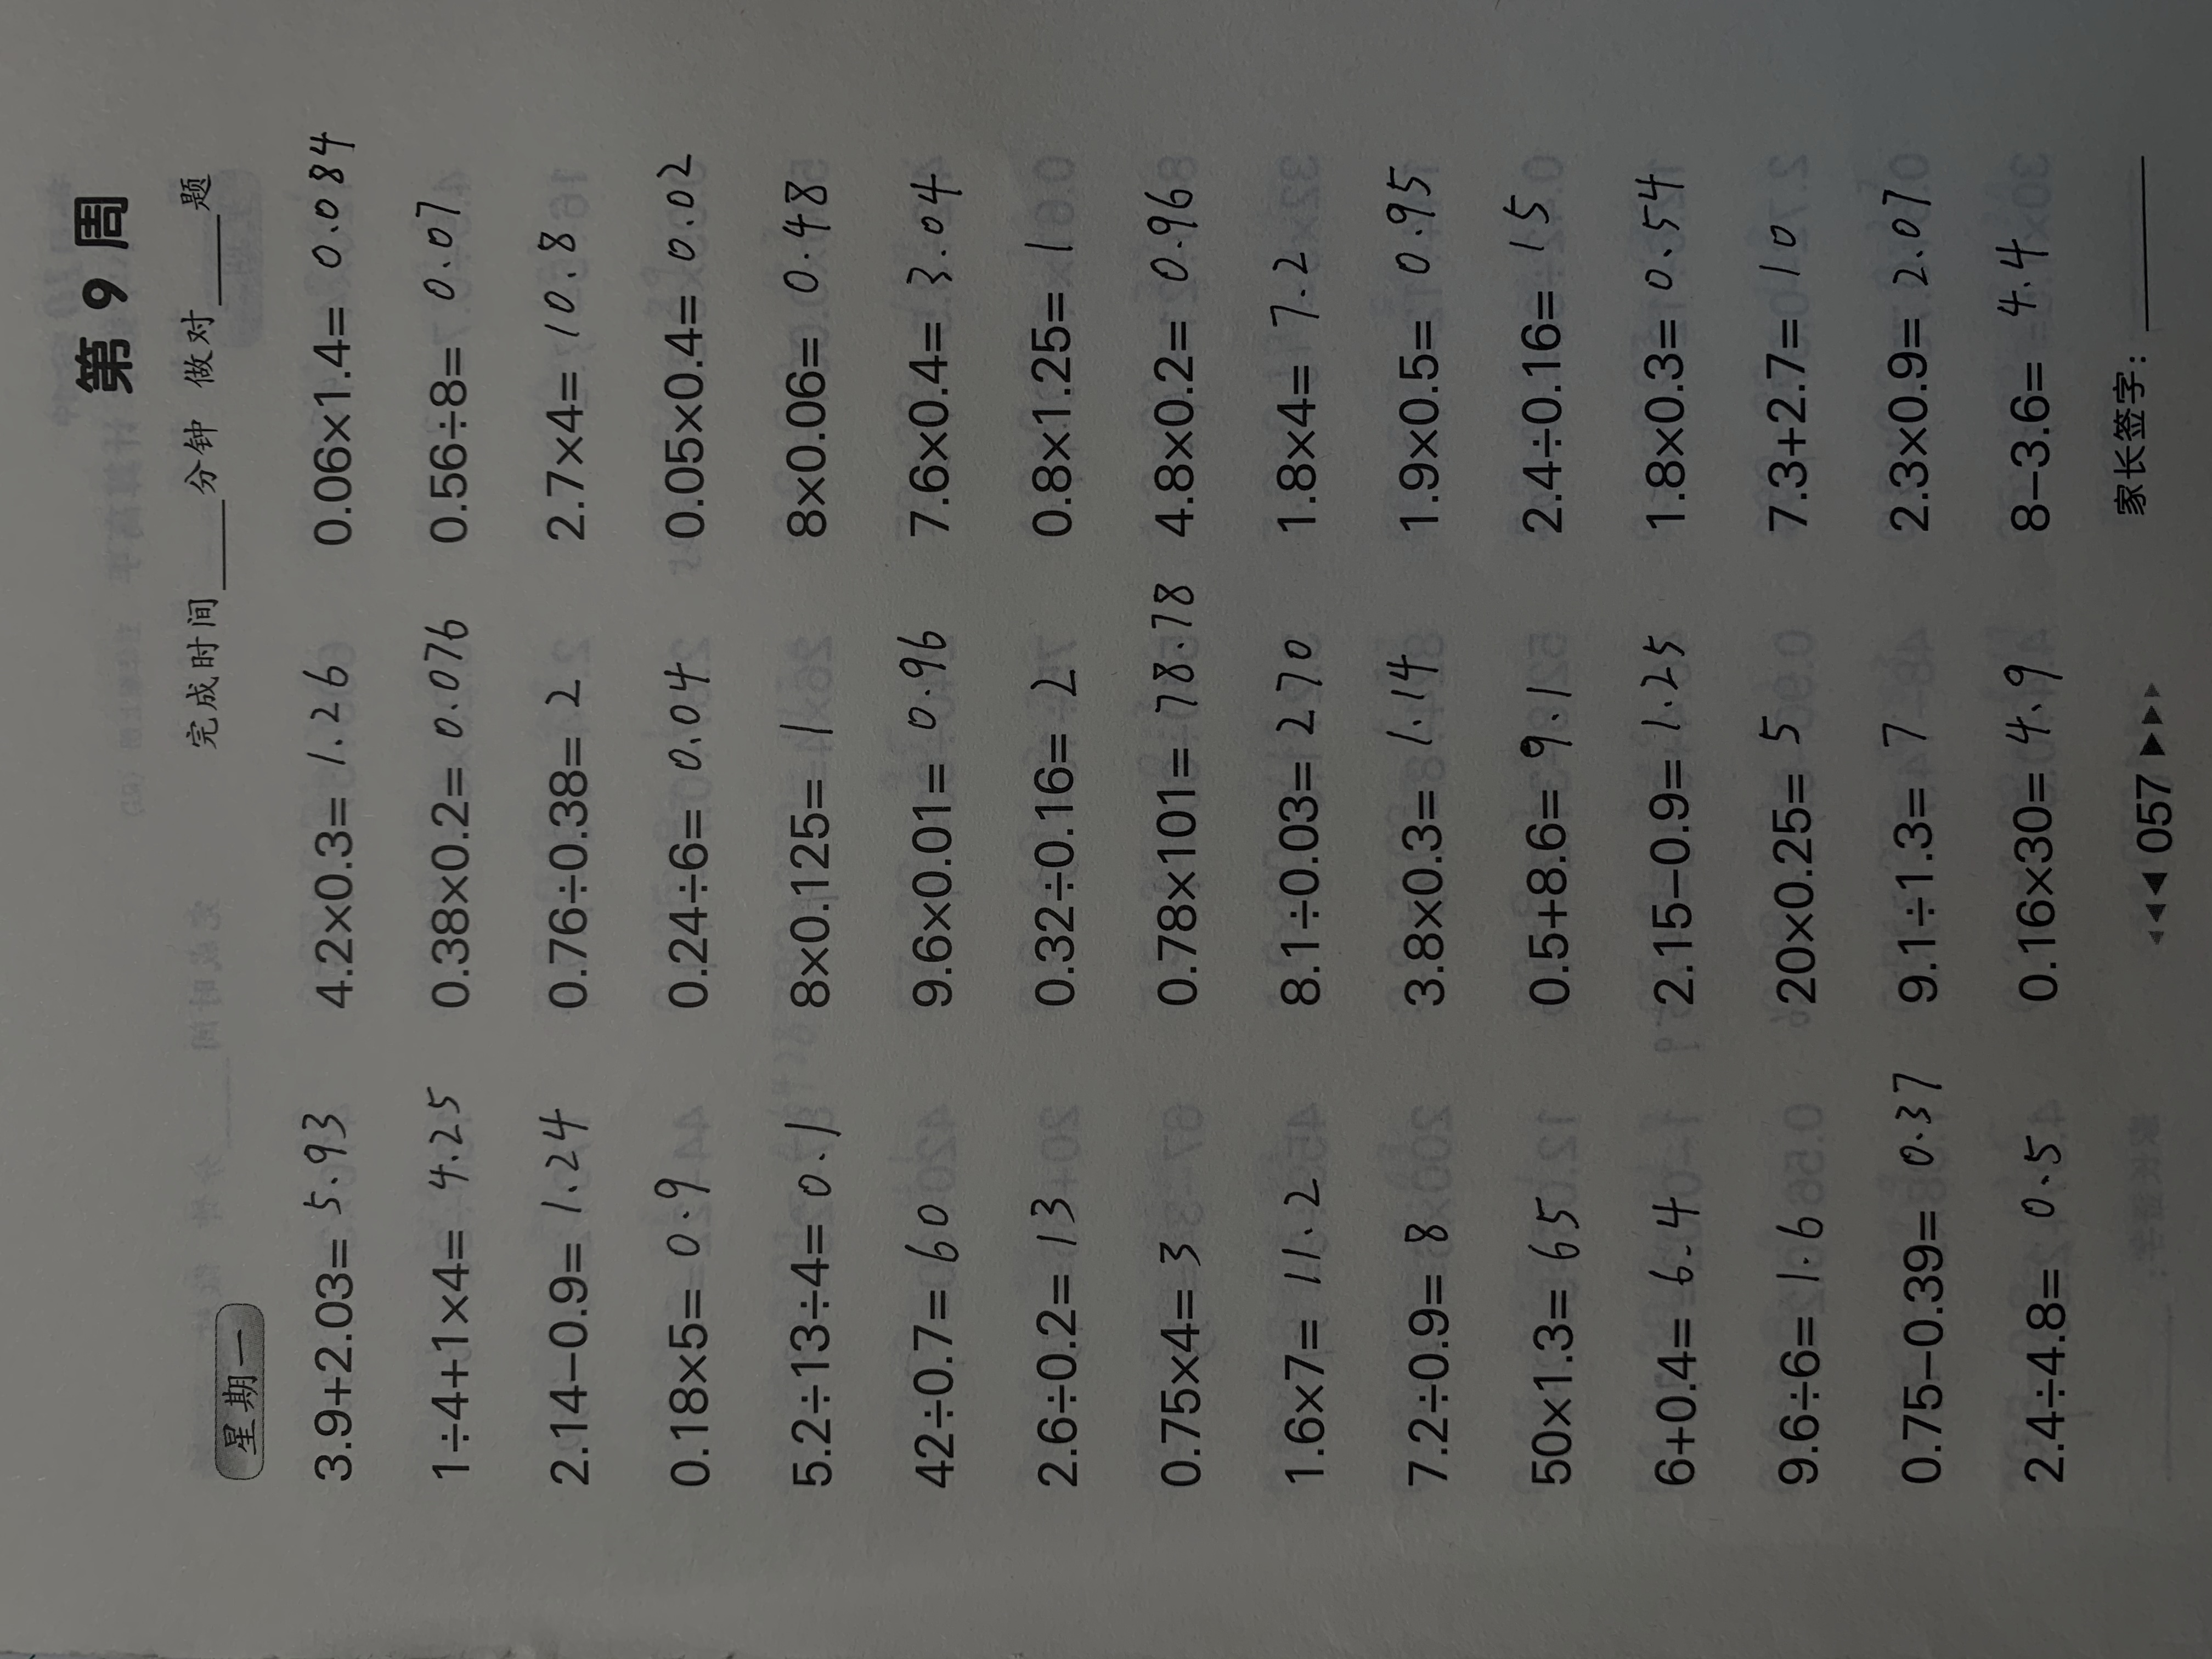equation: (859, 1023, 1353, 1101), (217, 216, 737, 282), (866, 854, 1453, 909), (1486, 1487, 1914, 1558), (217, 1412, 793, 1464), (1497, 853, 1987, 912), (862, 1495, 1342, 1555), (1471, 224, 2050, 274), (859, 946, 1375, 1002), (217, 583, 730, 639), (1482, 668, 1991, 724), (221, 396, 748, 450), (1489, 1035, 2002, 1088), (851, 670, 1383, 721), (855, 311, 1401, 361), (1493, 1217, 1991, 1271), (1486, 1126, 1965, 1180), (1479, 487, 2017, 535), (855, 489, 1342, 541), (217, 483, 652, 541), (1482, 580, 1987, 630), (1489, 1404, 1972, 1456), (225, 313, 774, 359), (855, 1226, 1375, 1273), (859, 1132, 1312, 1186), (851, 222, 1338, 272), (855, 768, 1335, 817), (221, 1508, 708, 1555), (1471, 309, 1957, 357), (1482, 759, 1906, 813), (221, 1138, 630, 1194), (855, 577, 1265, 633), (217, 672, 623, 728), (217, 1230, 630, 1284), (851, 402, 1316, 448), (214, 1321, 605, 1375), (1489, 1313, 1925, 1361), (1489, 946, 1891, 997), (859, 1317, 1272, 1367), (214, 765, 627, 815), (859, 1408, 1265, 1458), (1475, 398, 1914, 444), (221, 954, 652, 1000), (221, 1045, 597, 1095), (217, 862, 572, 910)
